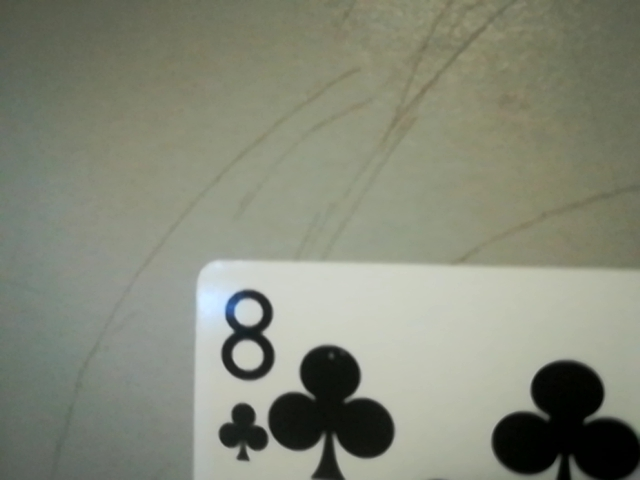mh 8: (204, 274, 281, 470)
